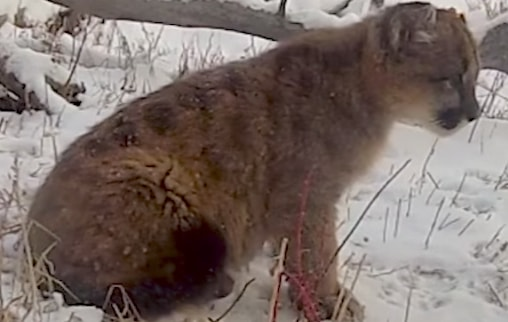Mountain Lion: (11, 6, 487, 316)
